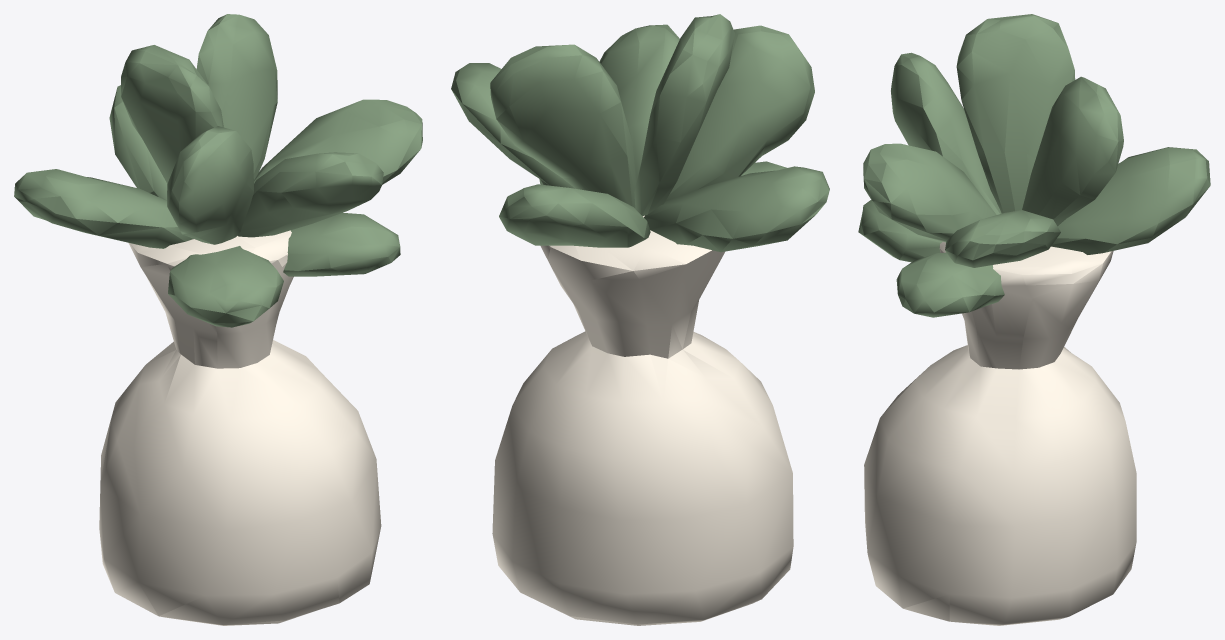
The model's file is dining_vase.glb.
3 renders of one model, left to right at view 1: azimuth 30°, elevation 25°; view 2: azimuth 150°, elevation 25°; view 3: azimuth 270°, elevation 25°, orthographic. The views are drawn at different scales.
Bounding box in the file's own units: 0.34 × 0.4736 × 0.2854.
